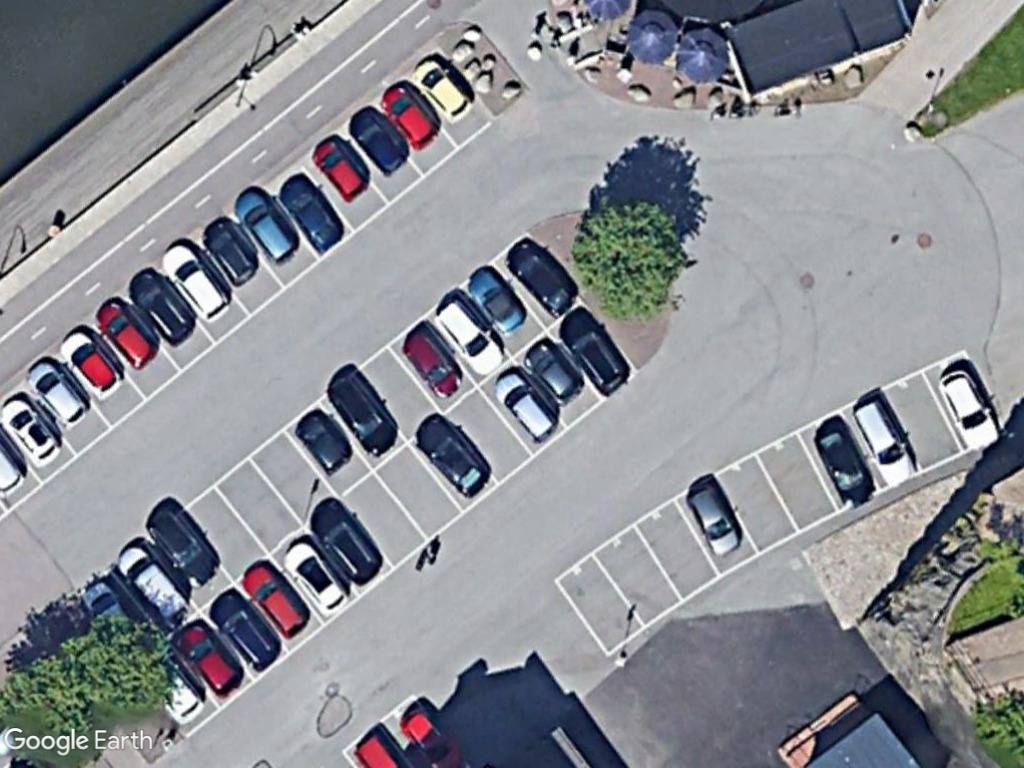car: (413, 408, 499, 500), (177, 613, 261, 704), (235, 553, 318, 641), (144, 498, 223, 590), (322, 371, 401, 462), (311, 495, 385, 591), (500, 236, 582, 320), (159, 239, 236, 328), (807, 416, 879, 510), (431, 296, 512, 379), (932, 365, 1006, 455), (853, 392, 920, 491), (114, 543, 193, 626), (205, 586, 283, 670), (560, 303, 633, 392), (273, 171, 349, 255), (55, 322, 129, 405), (123, 265, 196, 349), (395, 320, 468, 402), (283, 540, 355, 620), (682, 477, 750, 561), (91, 296, 167, 371), (22, 356, 94, 434), (235, 184, 302, 267), (489, 362, 557, 441), (0, 389, 68, 467), (348, 100, 414, 179), (408, 53, 477, 126), (463, 262, 530, 335), (377, 83, 443, 153), (295, 405, 359, 477), (202, 216, 265, 288), (309, 137, 374, 204), (522, 338, 585, 404)
